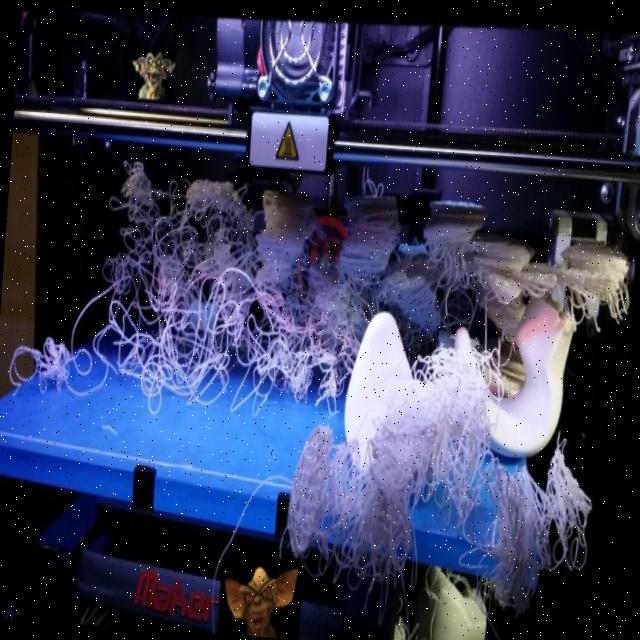spaghetti: (97, 163, 372, 411), (342, 359, 492, 610), (483, 451, 604, 608), (10, 310, 96, 423), (556, 264, 636, 338), (426, 236, 474, 306)
